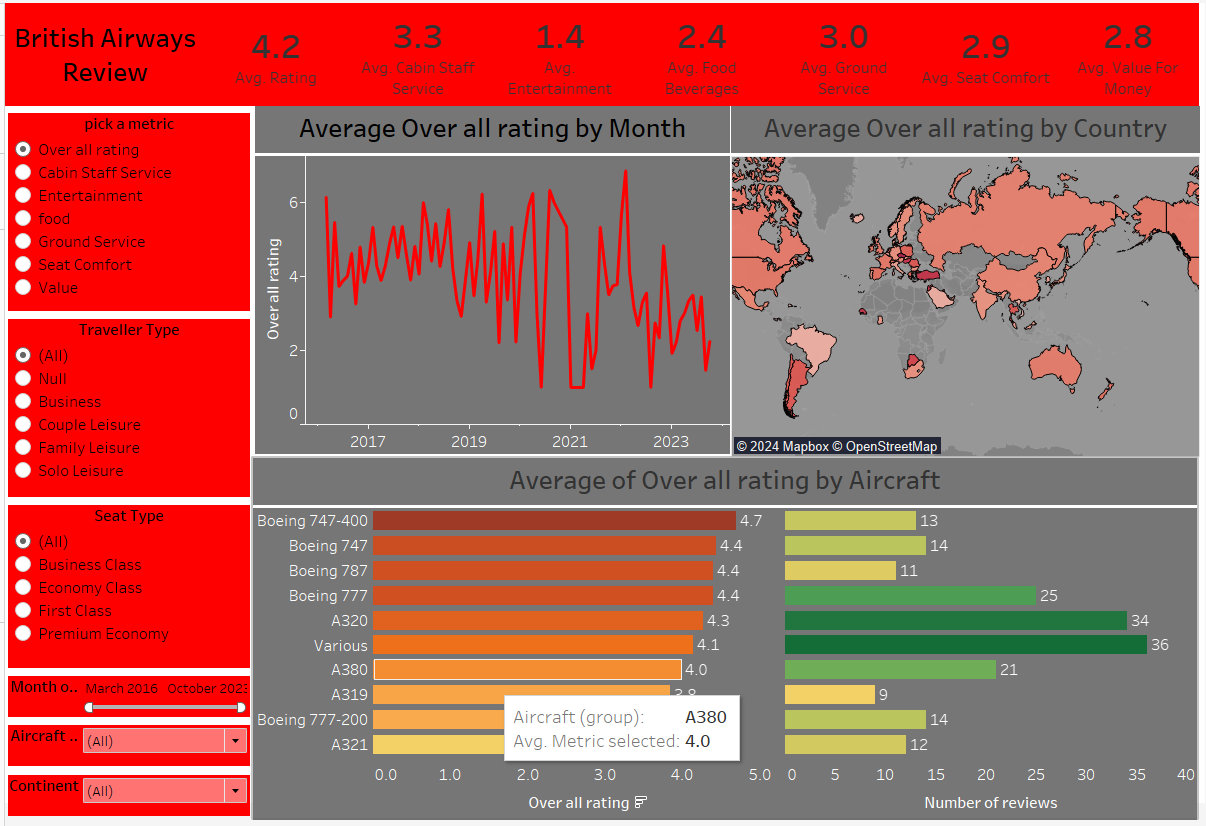

The page's visual inventory and layout, read from the dashboard file:
{"tool":"tableau","page":{"name":"Dashboard 1","canvas":[1000,1000],"units":"permille","ordinal":0},"visuals":[{"type":"text","box":[0,0,166.7,128.6]},{"type":"worksheet","title":"Sheet 2","mark":"Automatic","box":[166.7,0,828.3,128.6]},{"type":"worksheet","title":"Sheet 3","mark":"Automatic","rows":["Calculation_138485743040110592"],"cols":["date"],"box":[208.3,128.8,395.8,435]},{"type":"worksheet","title":"Map","mark":"Automatic","box":[605,128.8,390.8,438.8]}]}

Visuals, with their boxes on the dashboard's canvas, which has no fixed pixel size, in thousandths of its width and height (x1, y1, x2, y2). These are canvas units, not pixel positions in the 1206x826 screenshot, which may show the page scaled, cropped or inside an application window:
text: 0/0/167/129
"Sheet 2" worksheet: 167/0/995/129
"Sheet 3" worksheet: 208/129/604/564
"Map" worksheet: 605/129/996/568
